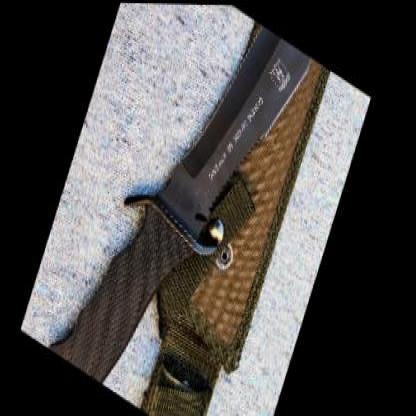knife: (153, 3, 337, 261)
